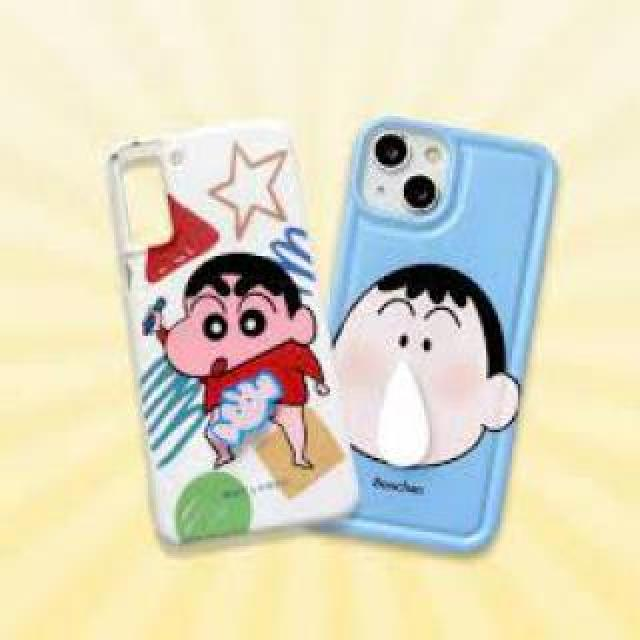smart phone: (304, 115, 544, 575)
